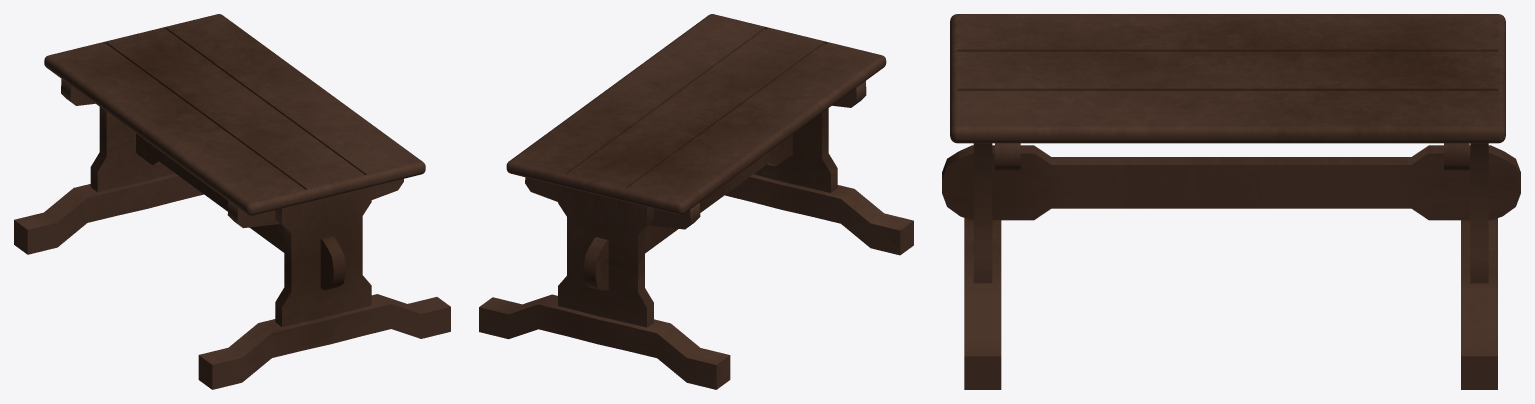
File: table.fbx
3 renders of one model, left to right at view 1: azimuth 30°, elevation 25°; view 2: azimuth 150°, elevation 25°; view 3: azimuth 270°, elevation 25°, orthographic. The views are drawn at different scales.
Parts seen in each view (by area): view 1: pCube55; view 2: pCube55; view 3: pCube55.
Boxes of the visible parts, x1,y1,x2,y2 form: pCube55: [14, 14, 450, 389]; pCube55: [479, 14, 913, 389]; pCube55: [942, 14, 1520, 389].
Bounding box in the file's own units: 13.63 × 9.83 × 21.3.
1 material, 1 textured.
